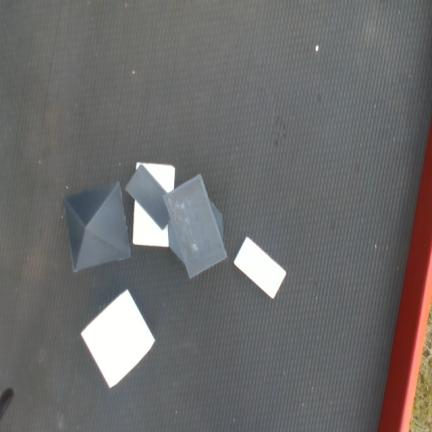Paralelepipedo: (163, 173, 228, 279), (132, 161, 175, 247), (233, 236, 286, 299), (125, 164, 170, 231)
Piramide: (80, 288, 156, 389), (64, 180, 131, 272)
Prisma_hexagonal: (168, 191, 223, 268)
